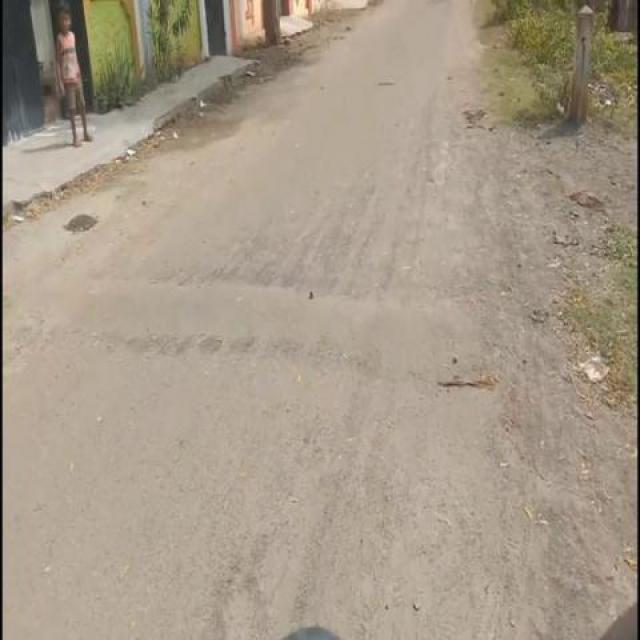Unmarked Bump: (29, 270, 478, 376)
